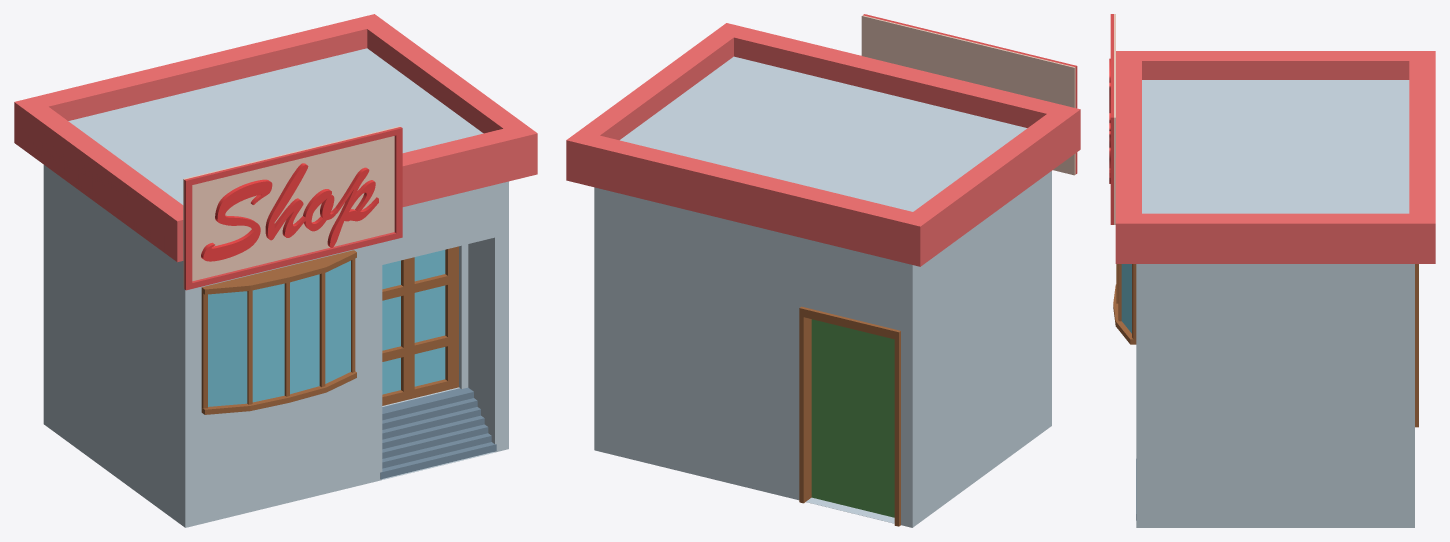
The model's file is MannersShop.fbx.
3 views of the same model, side by side, from view 1: azimuth 30°, elevation 25°; view 2: azimuth 150°, elevation 25°; view 3: azimuth 270°, elevation 25° (orthographic).
Visible parts, largest first — view 1: Shop; view 2: Shop; view 3: Shop.
Boxes of the visible parts, x1,y1,x2,y2 form: Shop: (14,14,537,527); Shop: (566,14,1080,527); Shop: (1109,14,1435,527).
Bounding box in the file's own units: 79.27 × 75.64 × 63.35.
